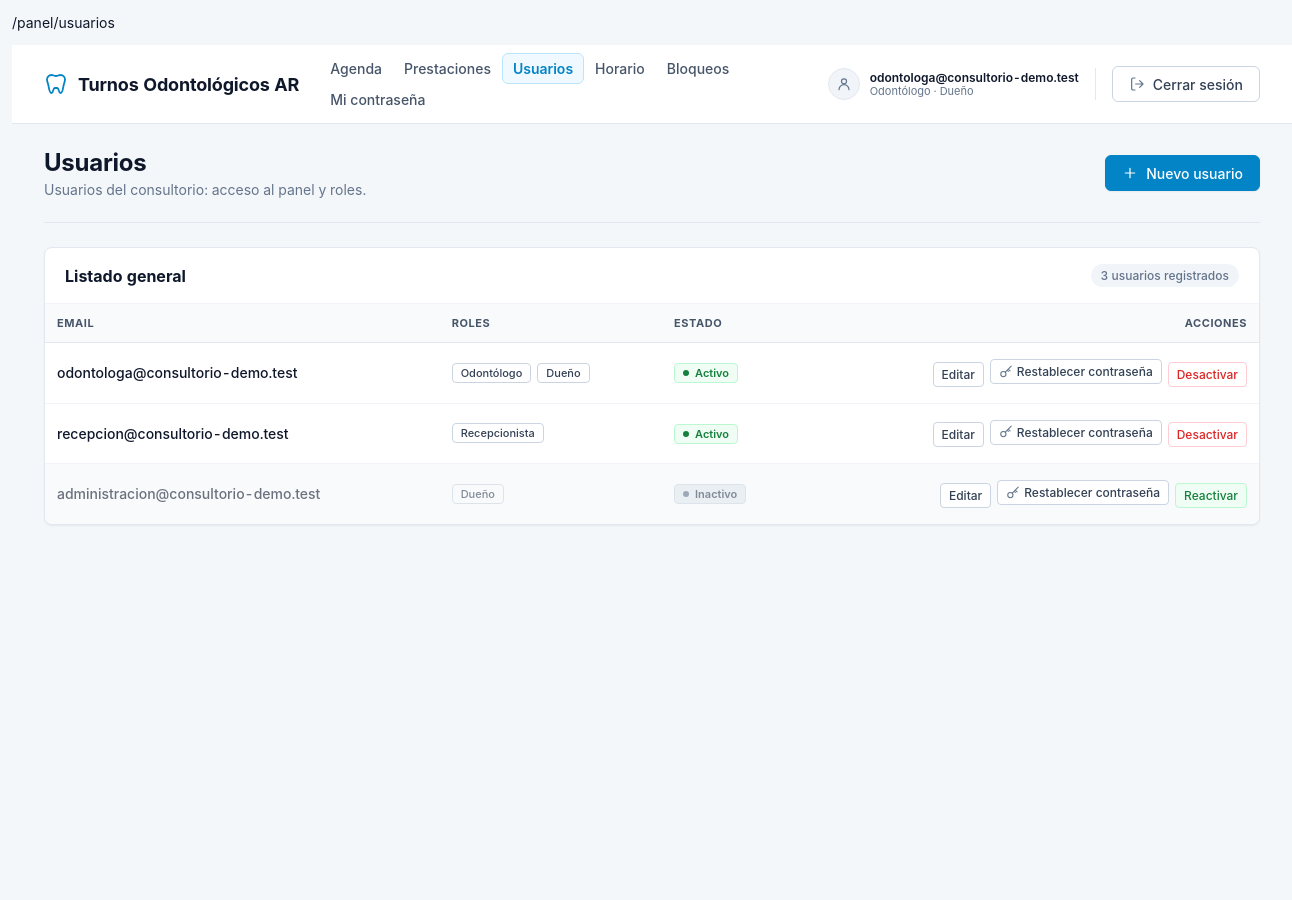
Test: PaginaUsuarios: edición de roles y desactivación › US-093 CA-1: sumar el rol dueno a la recepcionista
This screenshot has width=1292, height=900.
Expected: the table is shown, [45,304,1259,524]
What coordinates should you click on to do the following:
click the button "Editar" in the row of "recepcion@consultorio-demo.test"
I would click on:
 (958, 434)
Its box is [933,422,984,447].
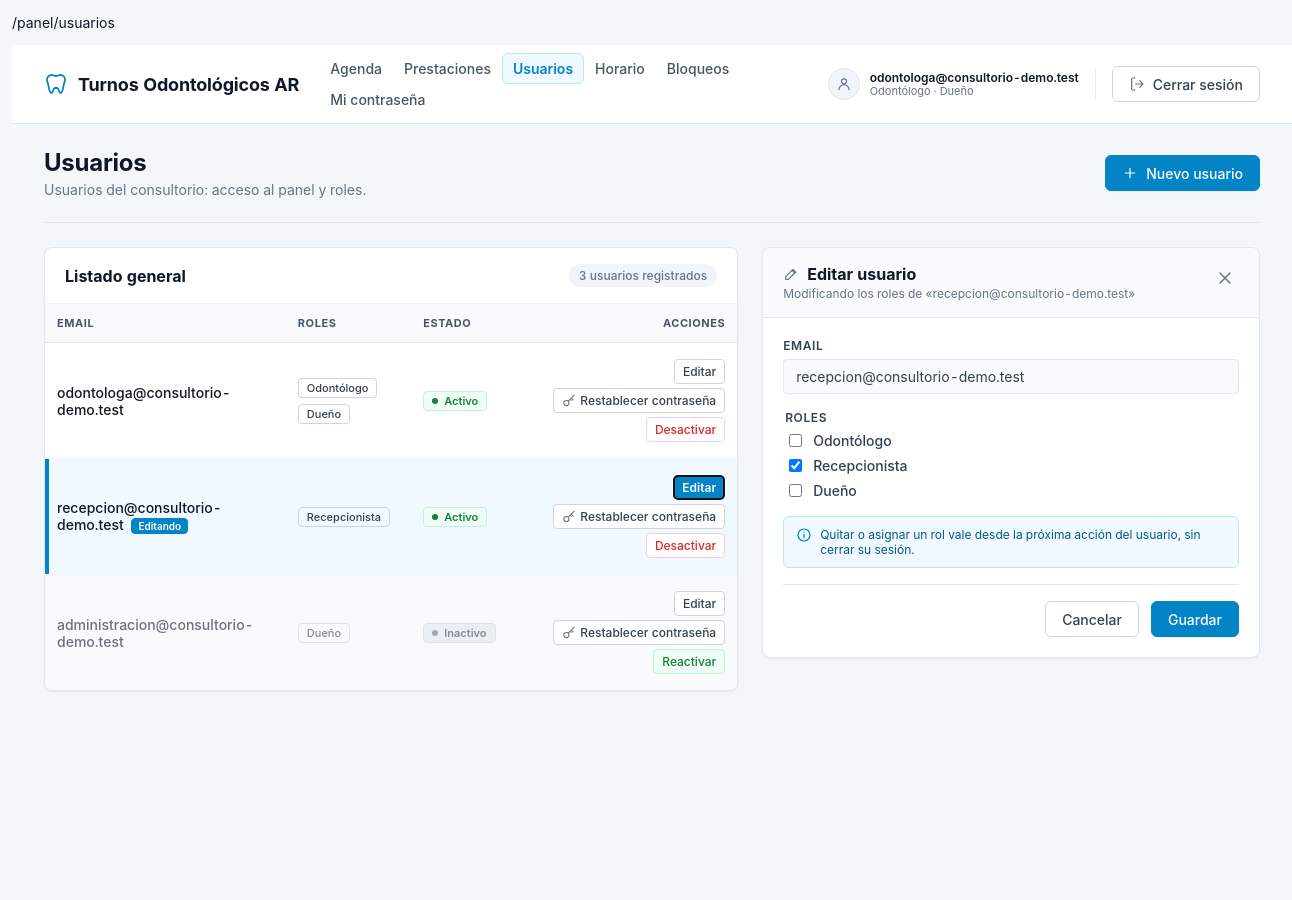
Expected: the text "Editando" is shown, [132,518,188,534]
Expected: the text "recepcion@consultorio-demo.test" is shown, [783,359,1239,394]
Expected: the checkbox labelled "Recepcionista" is checked, [789,459,802,472]
What coordinates should you click on to do the following:
click the checkbox labelled "Dueño"
I would click on:
 (796, 490)
Its box is [789,484,802,497].
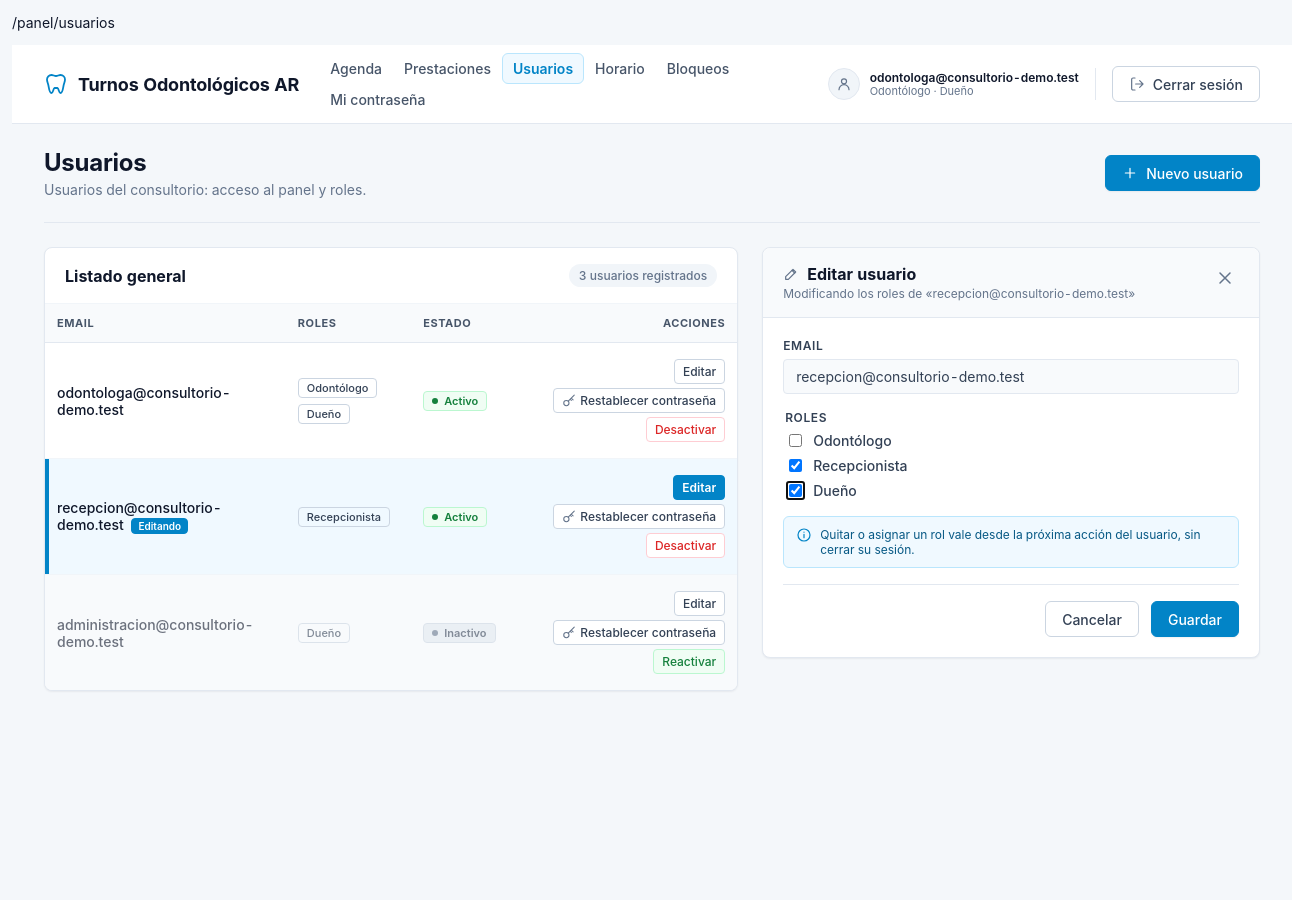
What coordinates should you click on to do the following:
click the button "Guardar"
I would click on:
 (1195, 619)
Its box is [1151,601,1239,637].
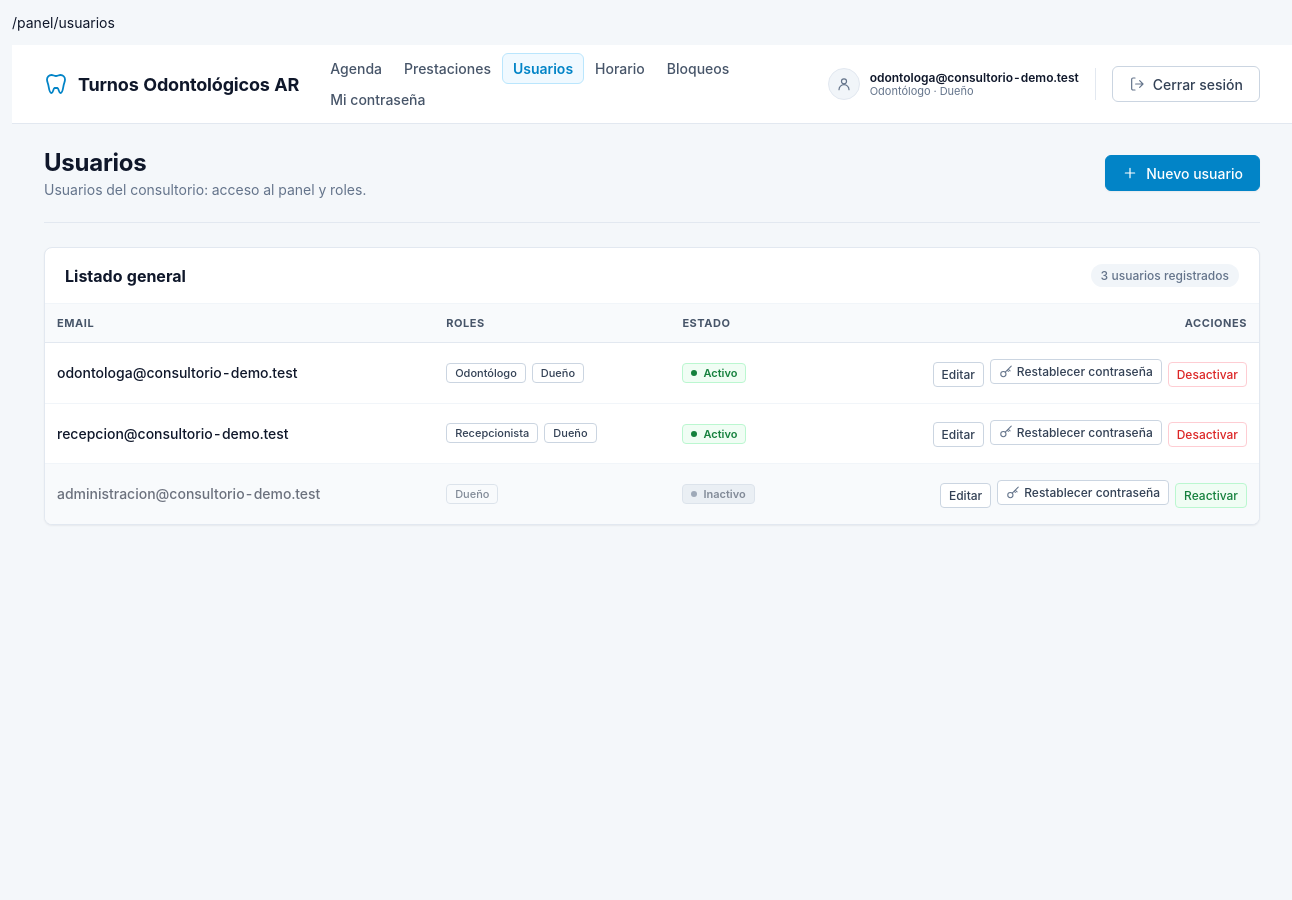
Expected: the text "Editando" is gone
